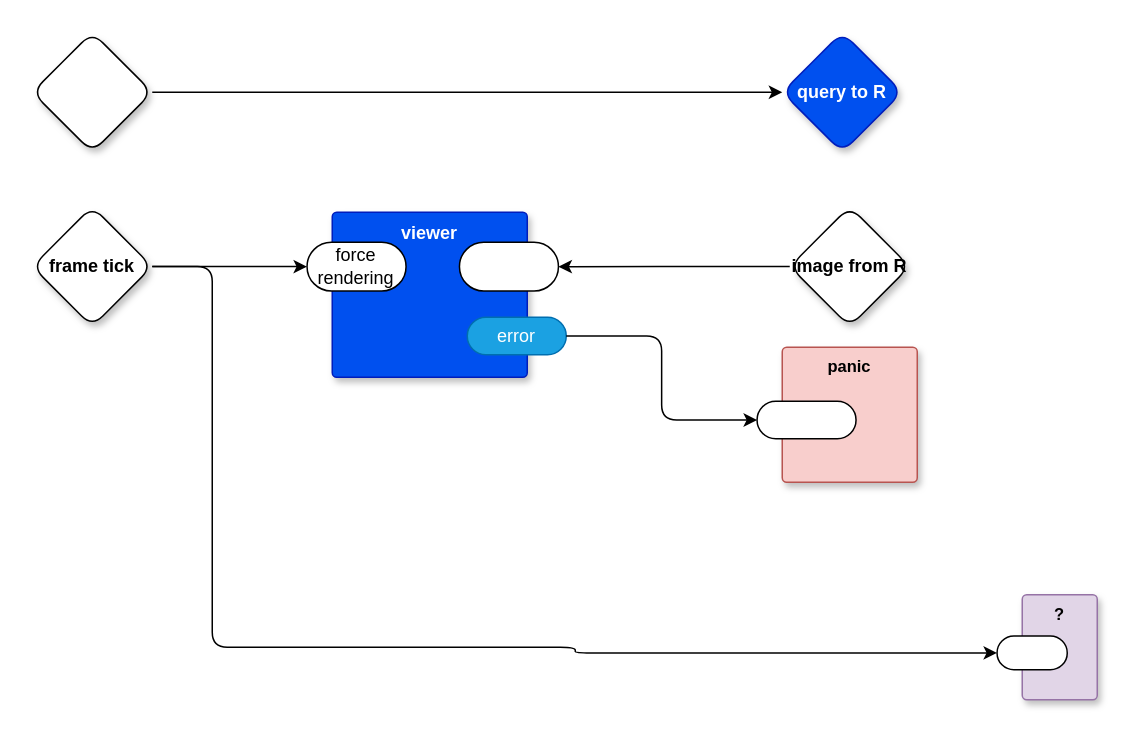
The diagram is 1133 pixels wide and 737 high, and some of its shapes have lost their labels. The shapes that lost their labels are listed below. From the top down, each one's centre as x and y in pixels, then its label:
the point at 93,94: Plot!
the point at 508,266: image update
the point at 806,419: str
the point at 1031,652: in
